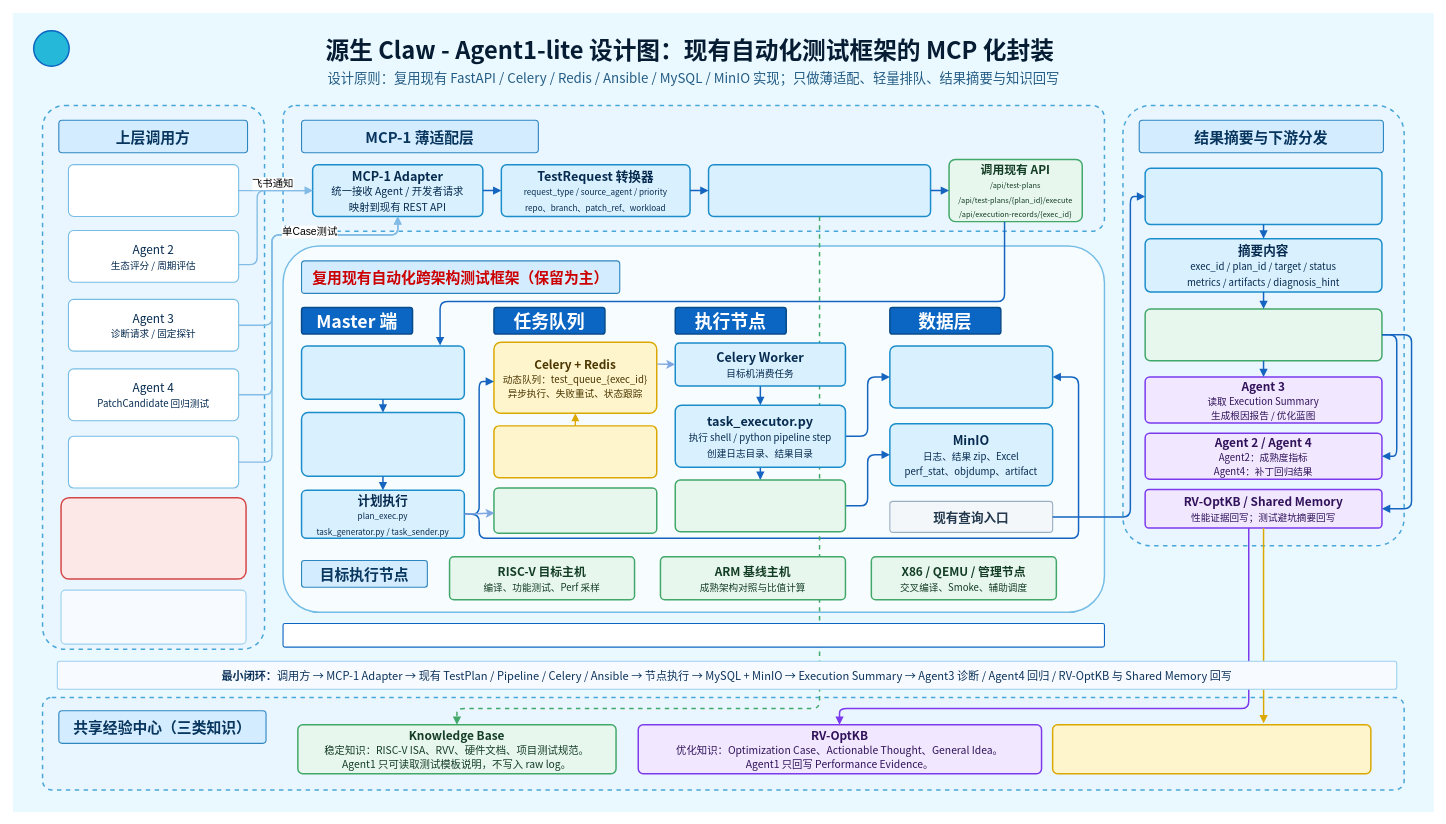
The diagram is 1446 pixels wide and 824 high, and some of its shapes have lost their labels. Each missing label, with the box of its shape:
A1: (33, 30, 70, 67)
Agent1-lite 职责边界： 负责测试执行、结果收集、摘要生成和分发；不做深度根因分析、不生成补丁、不直接提交开源社区。: (282, 623, 1105, 647)
Ansible 启动远程 Agent 基于 target_host_config 生成 inventory / playbook: (493, 487, 657, 534)
Execution Summary Builder 把执行记录、任务记录、MinIO 链接 整理为 Agent 可读摘要: (1144, 167, 1382, 225)
FastAPI / Swagger 测试计划、执行记录、Agent 管理 API: (300, 345, 465, 400)
MySQL TestPlan ExecutionRecord TaskExecutionRecord: (889, 345, 1053, 408)
Publish Hooks 按请求来源分发结果 不存 raw log 到 Shared Memory: (1144, 308, 1382, 361)
Shared Memory 团队过程记忆：测试坑点、硬件异常、工具链问题、任务交接摘要。 不保存完整日志与大文件。: (1052, 724, 1371, 774)
共享经验中心 历史 Case 复测: (68, 435, 239, 488)
开发者 / 团队成员 手动基线、专项测试: (68, 164, 239, 217)
核心服务 Agent Manager / Config Manager plan_init.py / pipeline_init.py: (300, 411, 465, 477)
测试模板库 baseline / cross_arch / patch_regression perf_stat_probe / objdump_probe: (707, 164, 931, 217)
第一版边界 不重构测试平台；不做复杂资源租约；不让 LLM 直接生成底层命令。: (60, 497, 246, 579)
结果压缩与上传 compress_dir oss_upload → MinIO: (674, 479, 846, 532)
轻量排队字段 request_type、source_agent priority: (493, 425, 657, 478)
轻量排队：复用 Celery 队列 + exec_id；新增 request_type / source_agent / priority 字段即可。: (60, 589, 246, 644)
